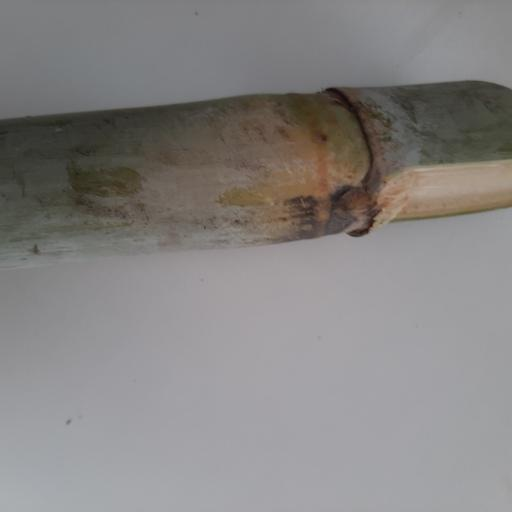Bud: (334, 186, 372, 218)
